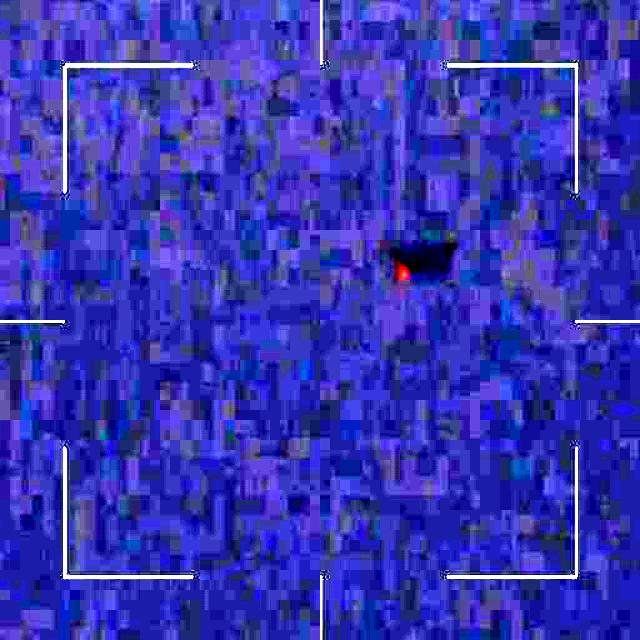bird: (385, 250, 422, 291)
